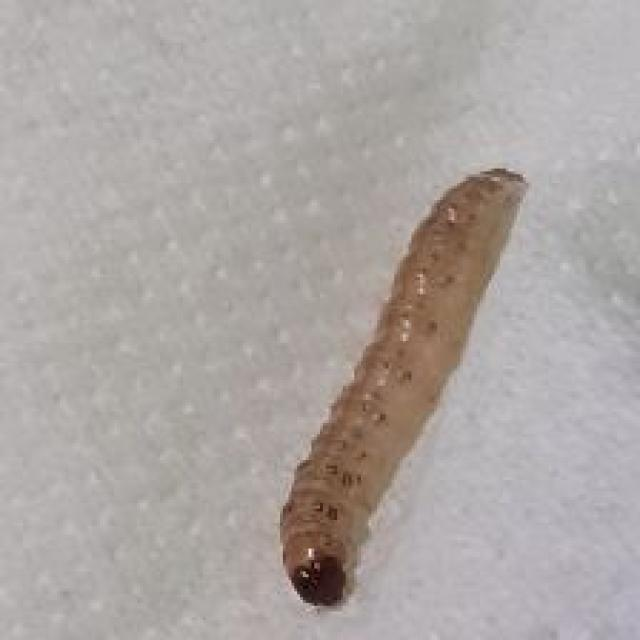white mucus: (251, 141, 544, 621)
